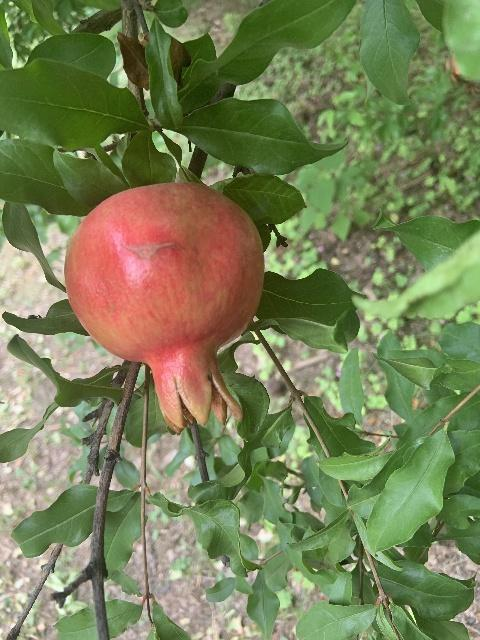ripe: (64, 182, 264, 432)
